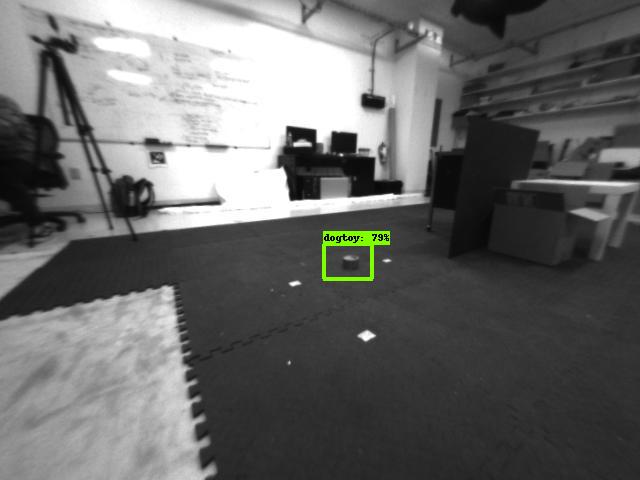dogtoy: (323, 238, 370, 281)
